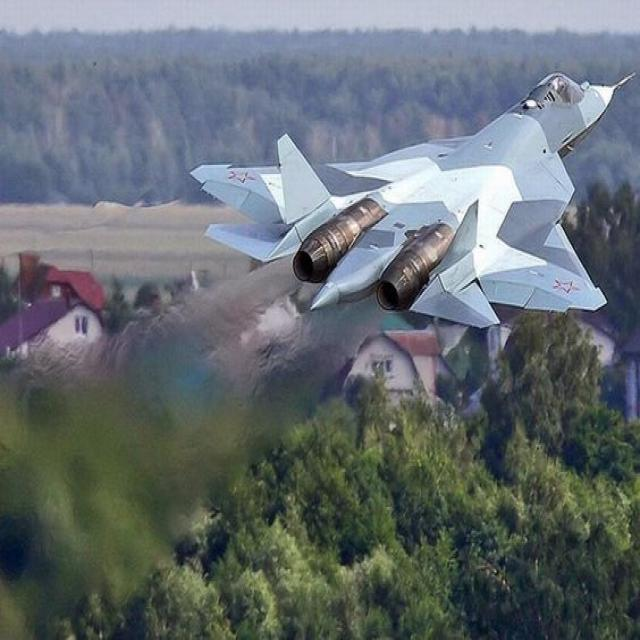MIL_Plane: (188, 71, 636, 328)
